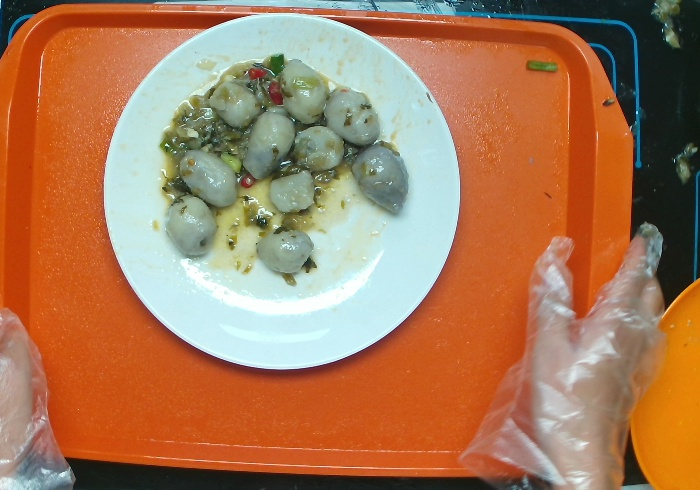HZYJPL-Bai_Se_Yuan_Pan: (100, 9, 463, 376)
